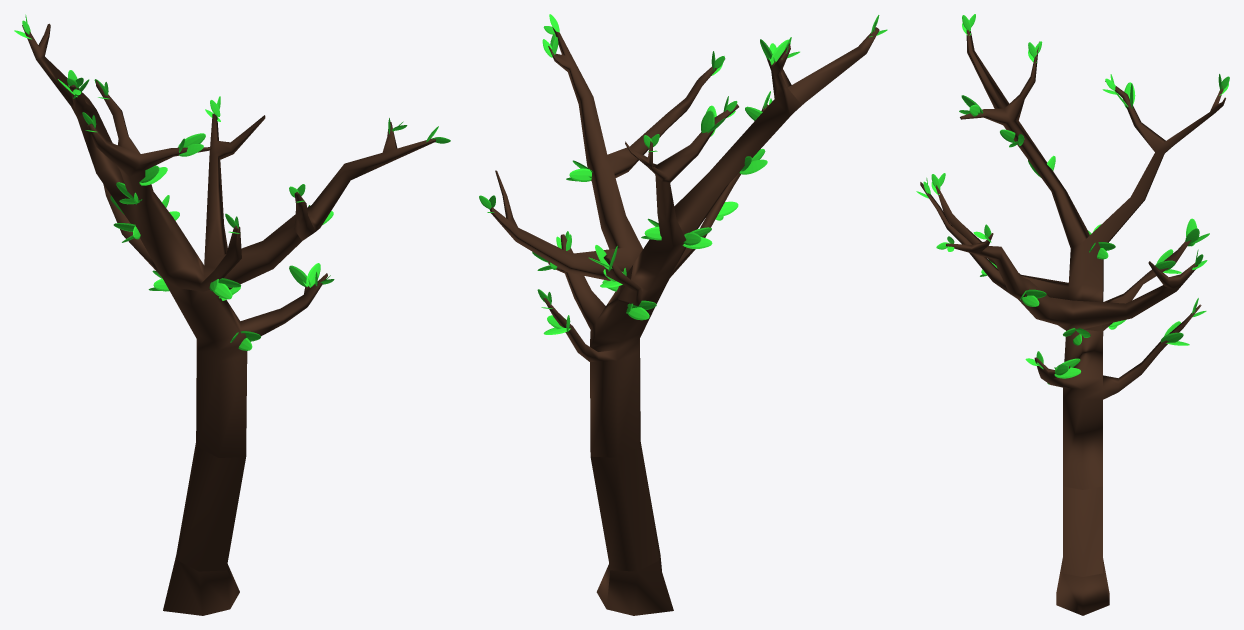
Rendered from Tree significant growth.fbx.
3 renders of one model, left to right at view 1: azimuth 30°, elevation 25°; view 2: azimuth 150°, elevation 25°; view 3: azimuth 270°, elevation 25°, orthographic. The views are drawn at different scales.
Parts seen in each view (by area): view 1: Cube.045; view 2: Cube.045; view 3: Cube.045.
Boxes of the visible parts, x1,y1,x2,y2 form: Cube.045: [14, 14, 450, 615]; Cube.045: [479, 14, 887, 615]; Cube.045: [916, 14, 1229, 615].
Bounding box in the file's own units: 675 × 1060 × 592.
